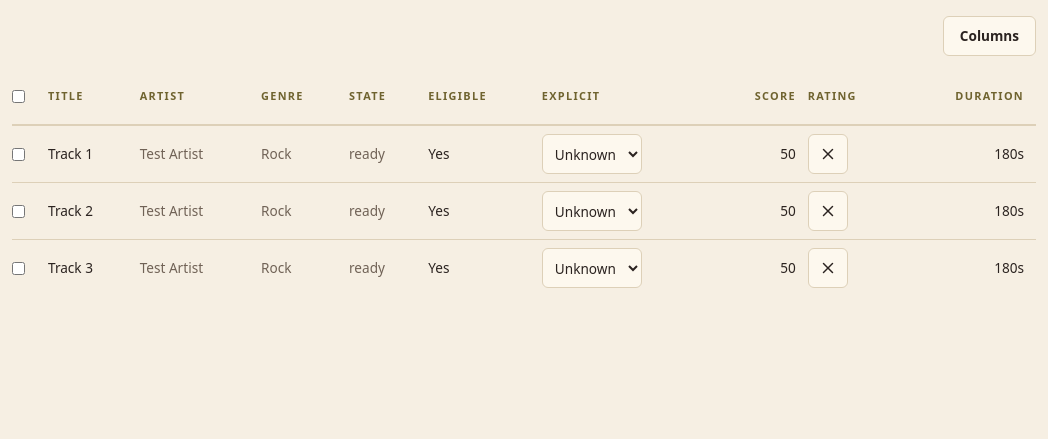
Test case: Feature: Catalog selection toolbar and Libraries tab › Scenario: selection drives the toolbar › select-all selects the current page
Click the checkbox named "Select all rows on this page": (18, 96) [12,90,25,102]
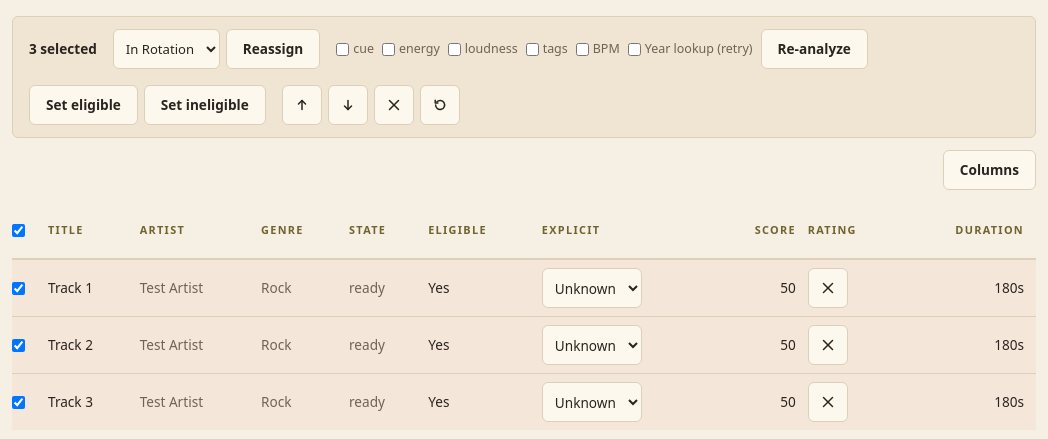
Check: the text "3 selected" is shown, box [29,39,97,59]
Check: the checkbox named "Select Track" is checked, box [12,282,25,294]
